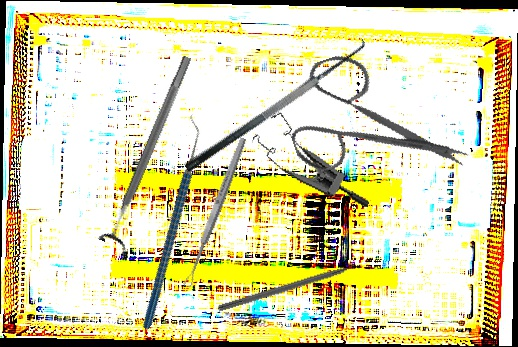Chopper: (78, 113, 262, 331)
Fixation Ring: (97, 51, 203, 251)
Hook Surgical: (217, 259, 369, 314)
Iris Scissors: (270, 25, 473, 216)
Spatula Surgical: (173, 29, 373, 174)
Speculum: (242, 106, 388, 210)
Surgical Spoon: (181, 136, 249, 289)
